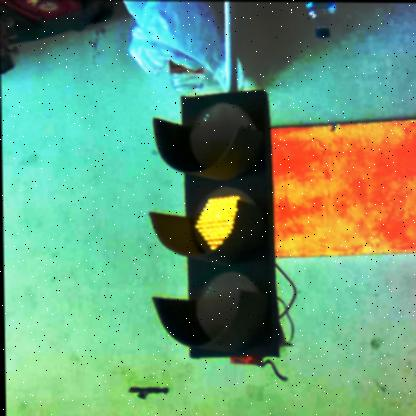Traffic Light -Yellow-: (149, 93, 279, 358)
